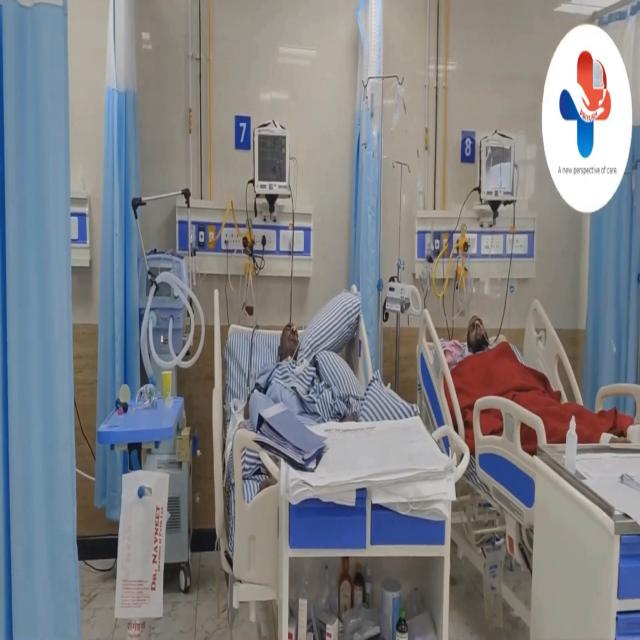Movement-NO: (246, 280, 327, 417)
